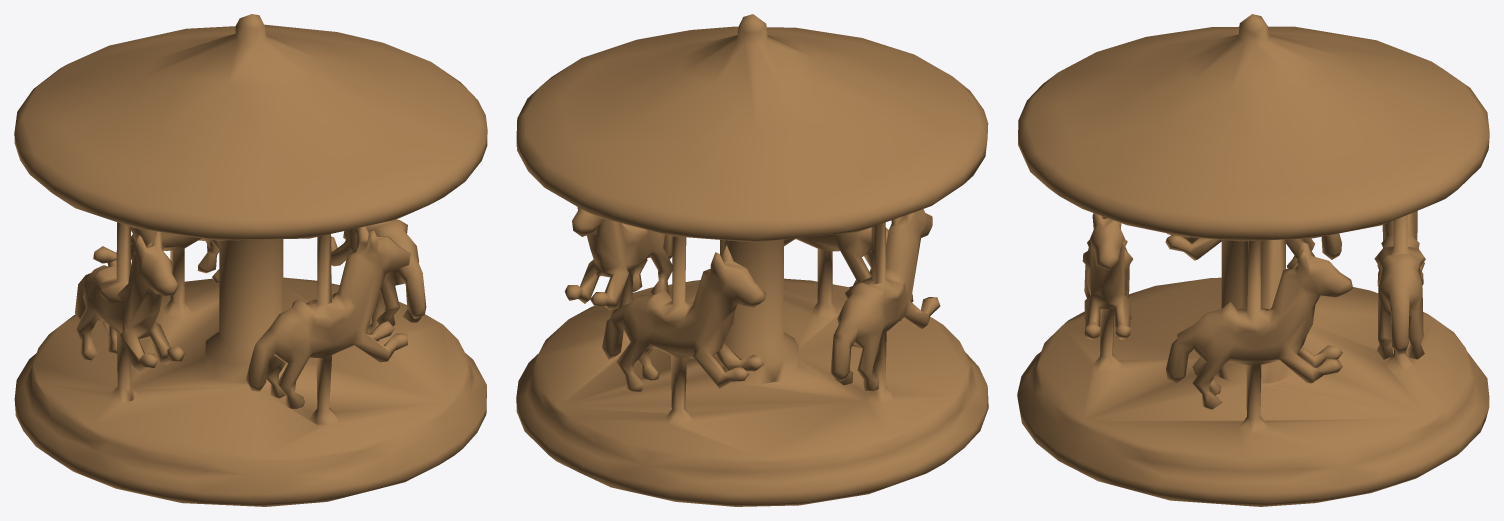
The model's file is NEW_RECOVERY_104_LOD2.fbx.
The picture shows the model from 3 angles, left to right: view 1: azimuth 30°, elevation 25°; view 2: azimuth 150°, elevation 25°; view 3: azimuth 270°, elevation 25°; orthographic projection.
Visible parts, largest first — view 1: Carousel_Static_Sculpture; view 2: Carousel_Static_Sculpture; view 3: Carousel_Static_Sculpture.
Part boxes in pixels (box(x1,y1,x2,y2)): Carousel_Static_Sculpture: box(14, 14, 487, 506); Carousel_Static_Sculpture: box(516, 14, 988, 506); Carousel_Static_Sculpture: box(1017, 14, 1489, 506).
Bounding box in the file's own units: 436 × 436 × 403.
